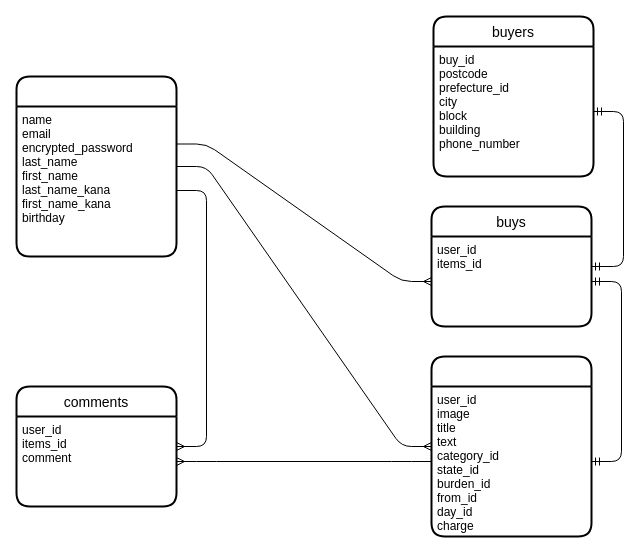
Image size: 640x553. Some labels were removed from this diagram. Each missing label, with the box of its shape:
items: (430, 355, 592, 537)
users: (15, 75, 177, 257)
